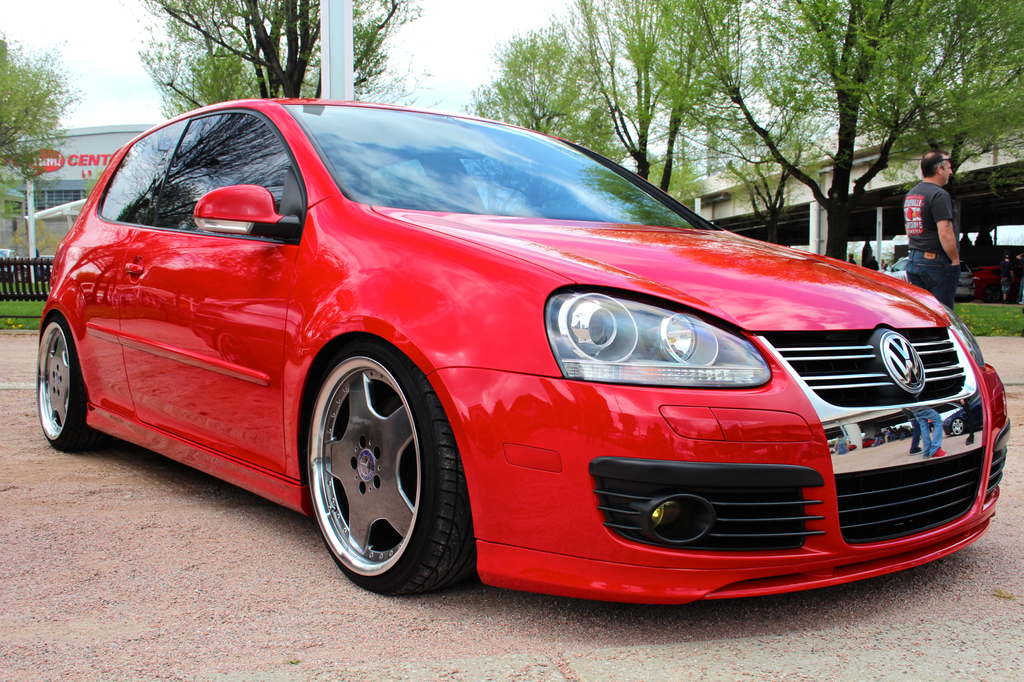Car: (35, 106, 973, 613)
